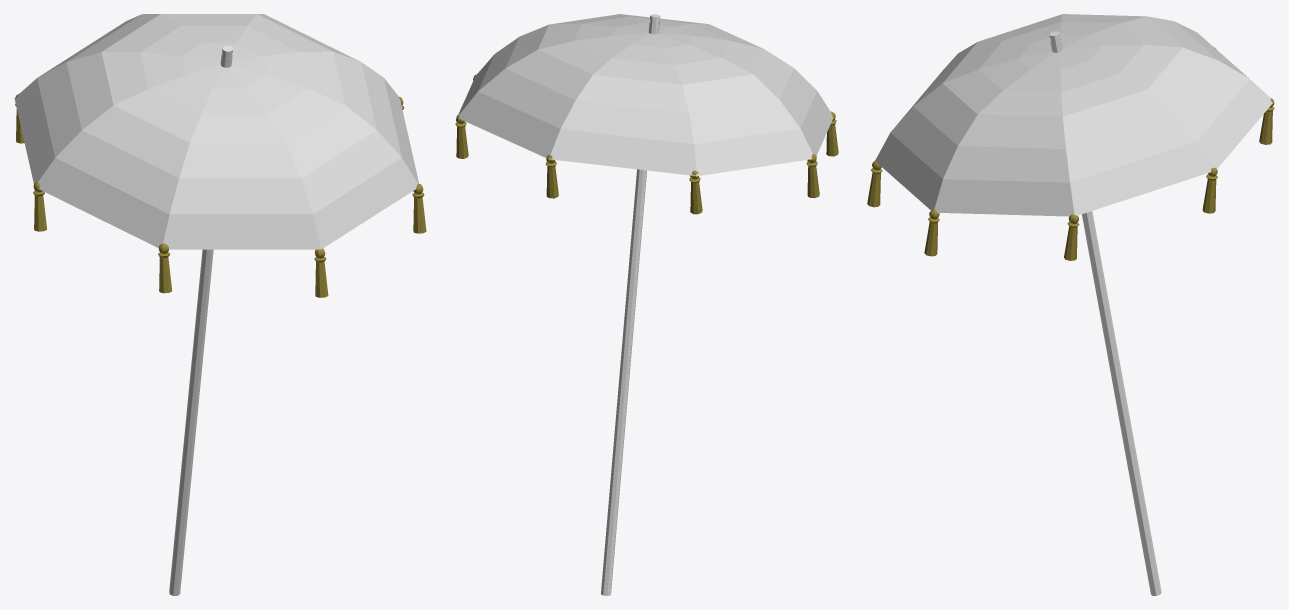
File: parasol_02.fbx
3 views of the same model, side by side, from view 1: azimuth 30°, elevation 25°; view 2: azimuth 150°, elevation 25°; view 3: azimuth 270°, elevation 25° (orthographic). The views are drawn at different scales.
Visible parts, largest first — view 1: umbrella_01, umbrella_01.002, umbrella_01.027; view 2: umbrella_01, umbrella_01.002, umbrella_01.027; view 3: umbrella_01, umbrella_01.002, umbrella_01.027.
Boxes of the visible parts, x1,y1,x2,y2 form: umbrella_01: (14,14,418,249); umbrella_01.002: (169,45,232,595); umbrella_01.027: (15,94,426,297); umbrella_01: (458,14,833,176); umbrella_01.002: (601,14,660,595); umbrella_01.027: (455,74,838,214); umbrella_01: (875,14,1274,216); umbrella_01.002: (1049,31,1161,595); umbrella_01.027: (867,47,1274,260).
Size of the model in its own units: 494 by 745 by 490.
